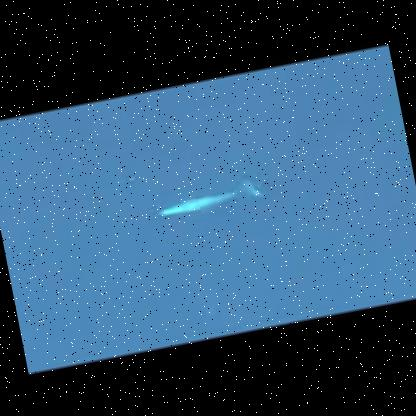blue_whale: (141, 166, 278, 230)
